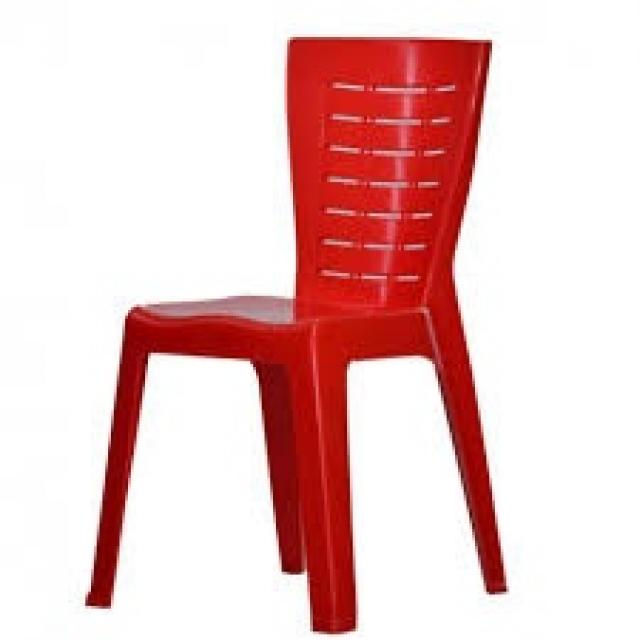Chair: (85, 34, 509, 629)
